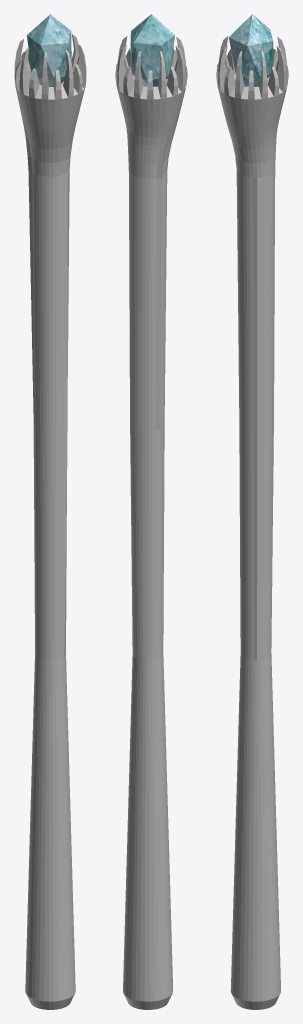
The model's file is wand.fbx.
3 renders of one model, left to right at view 1: azimuth 30°, elevation 25°; view 2: azimuth 150°, elevation 25°; view 3: azimuth 330°, elevation 25°, orthographic.
Visible parts, largest first — view 1: Cylinder, Icosphere; view 2: Cylinder, Icosphere; view 3: Cylinder, Icosphere.
Part boxes in pixels (left/top/right/bottom): Cylinder: left=14, top=34, right=86, bottom=1009; Icosphere: left=27, top=14, right=71, bottom=86; Cylinder: left=115, top=36, right=187, bottom=1009; Icosphere: left=130, top=14, right=174, bottom=86; Cylinder: left=216, top=36, right=288, bottom=1009; Icosphere: left=229, top=14, right=273, bottom=86.
Size of the model in its own units: 196 by 2985 by 196.
